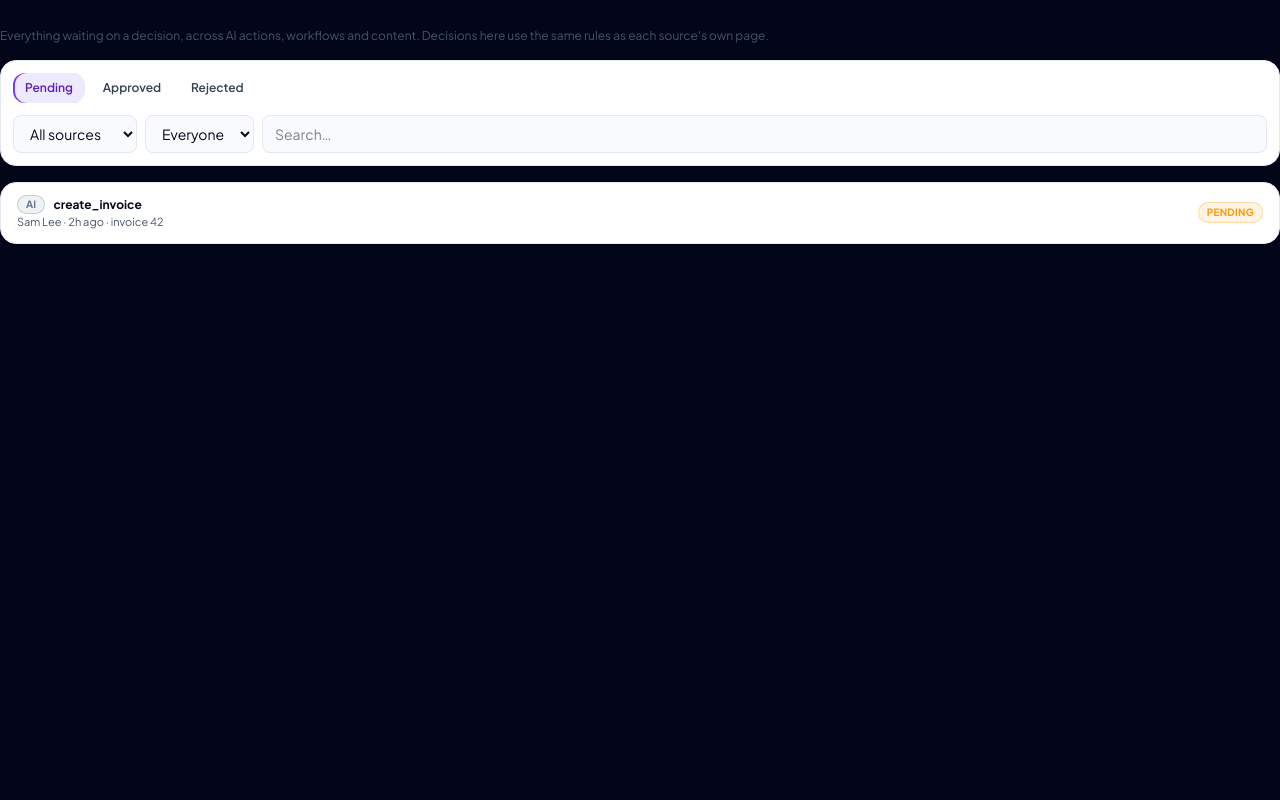
it: ApprovalsPage › hides decision controls when the caller cannot decide, and closes on Escape; deep link navigates
Click the text "create_invoice" at point(98, 205), box top-left (53, 197), bottom-right (142, 213)
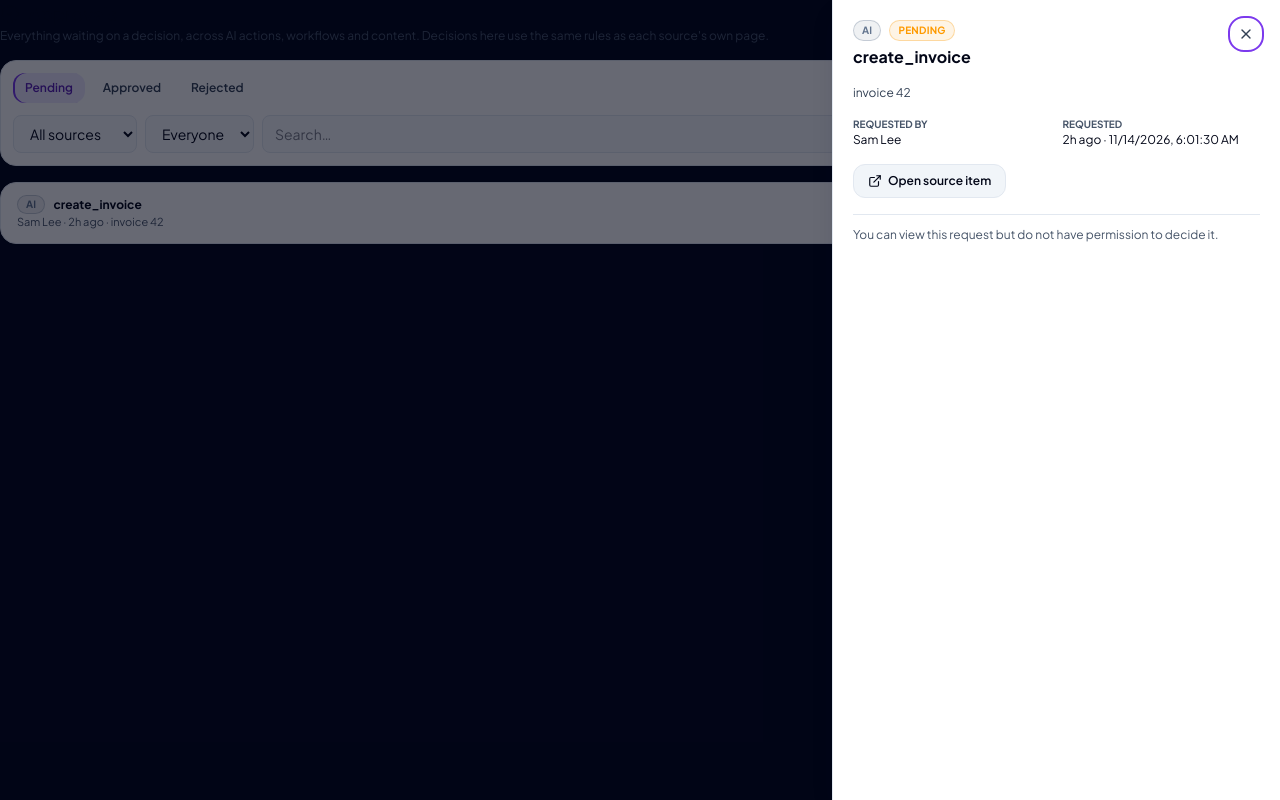
Expected: the text "do not have permission to decide" is shown, top-left (853, 227), bottom-right (1218, 242)
Click the button "Open source item" at point(930, 181), box top-left (853, 164), bottom-right (1006, 198)
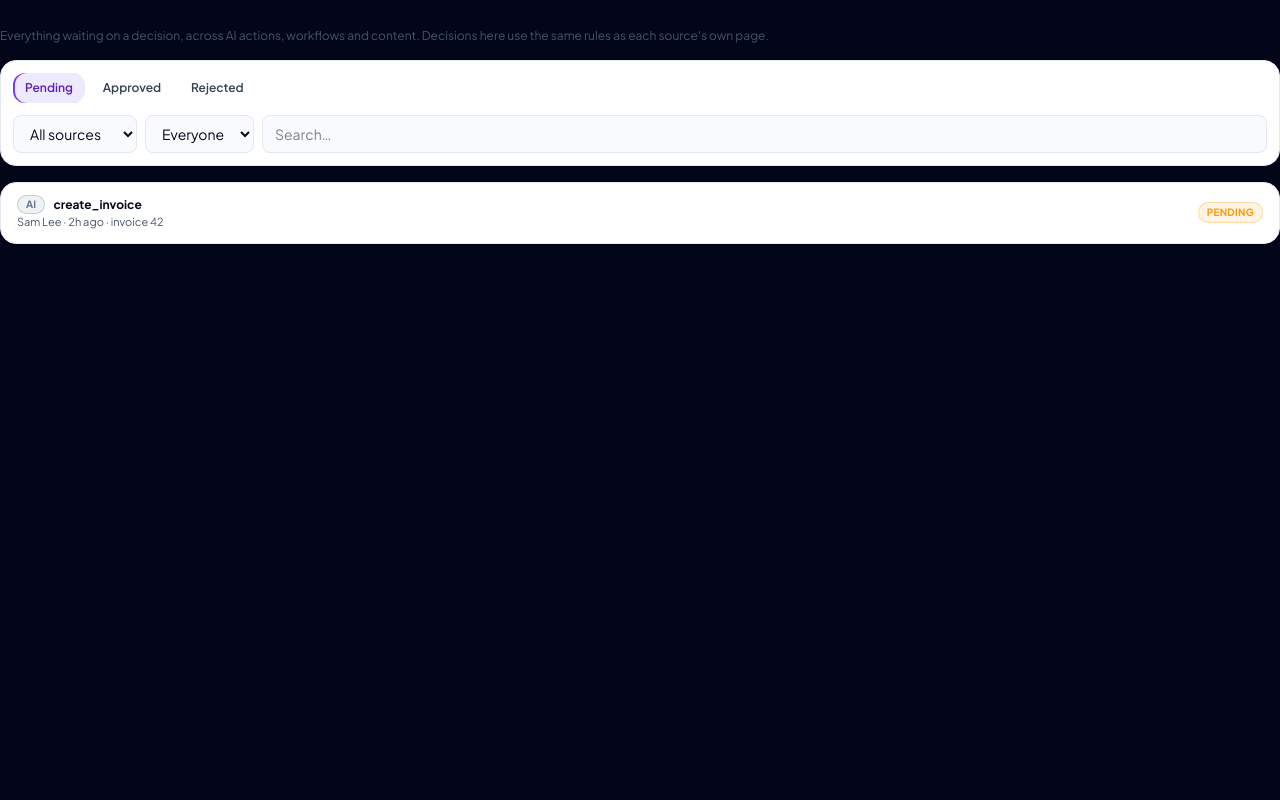
Click the text "create_invoice" at point(98, 205), box top-left (53, 197), bottom-right (142, 213)
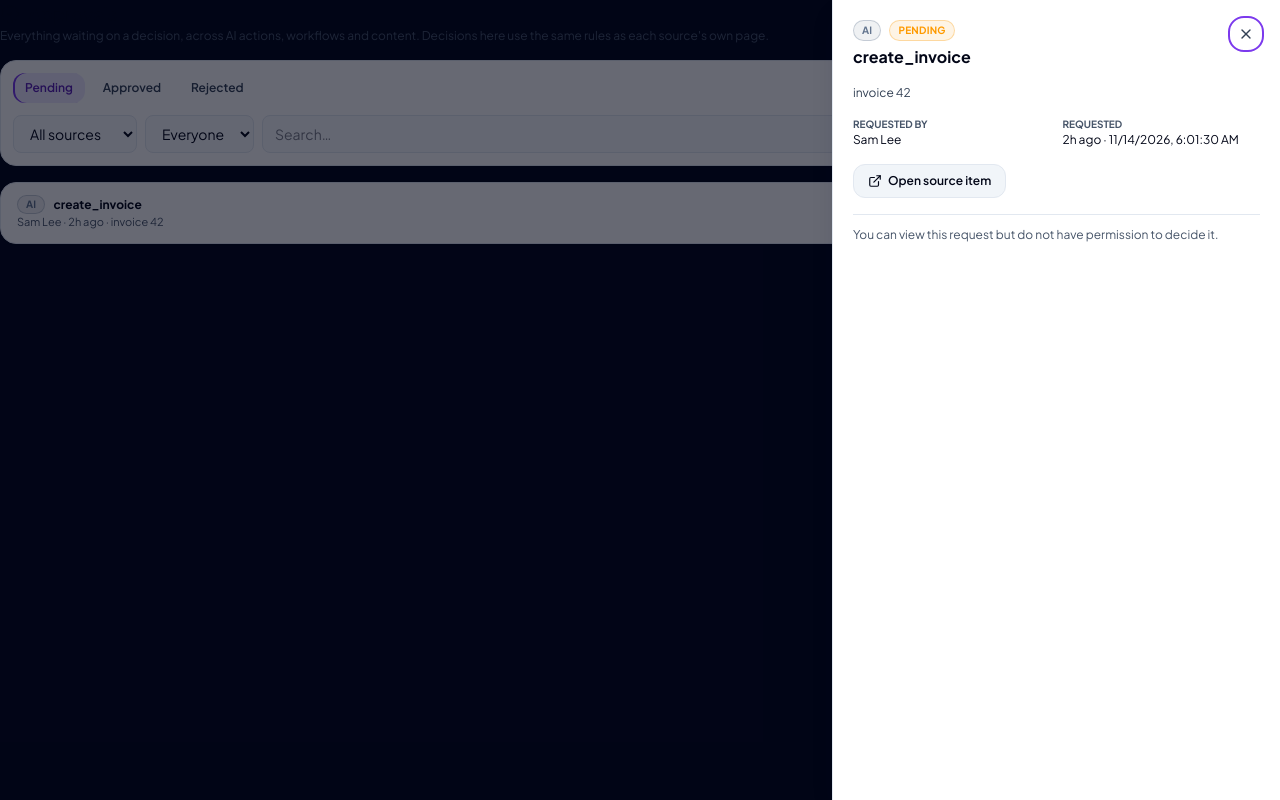
Press Escape
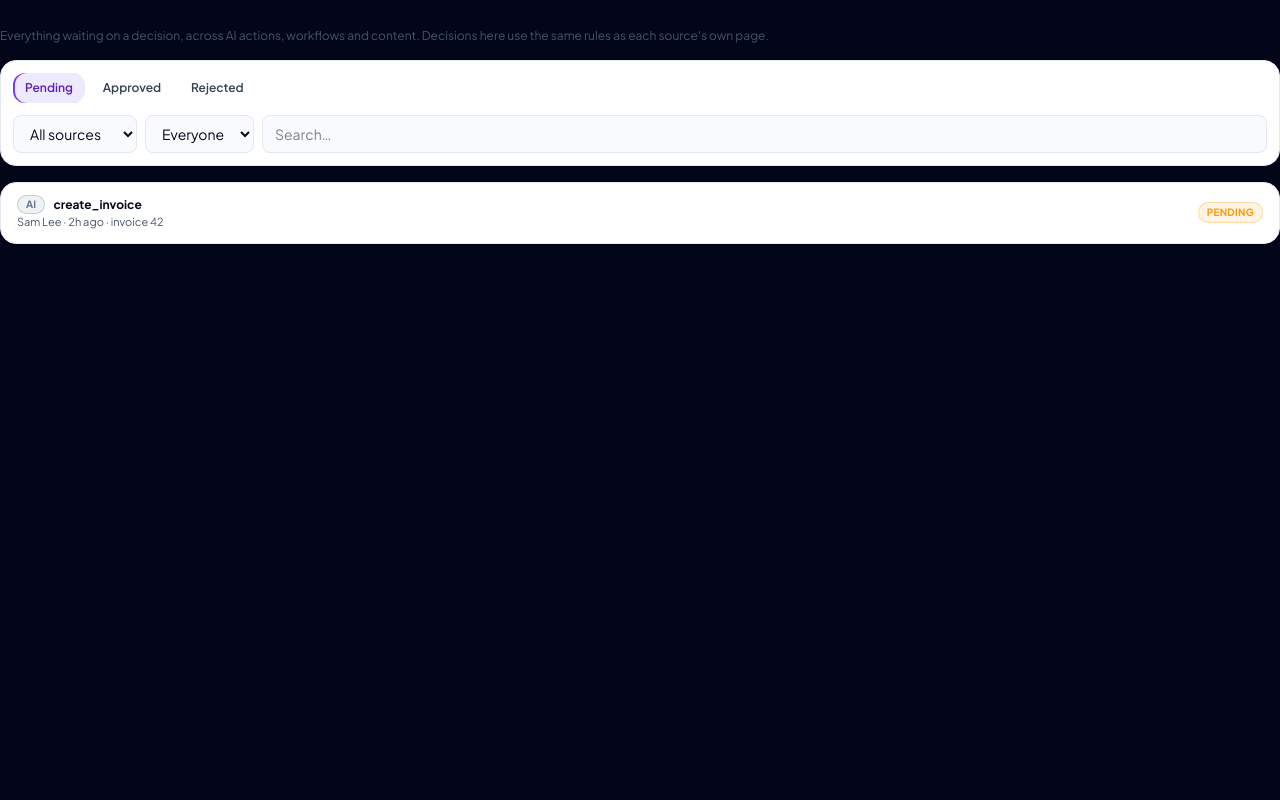
Expected: the dialog is gone
